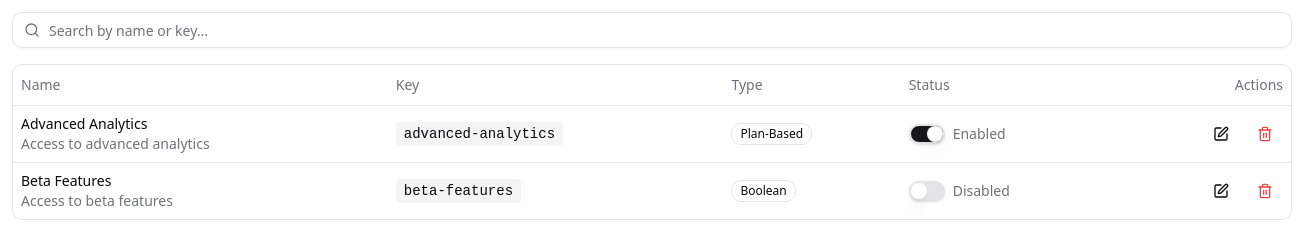
FeatureFlagsList › shows empty state when search has no results
Type "nonexistent" into the field with placeholder "Search by name or key..." at x=652, y=30, box [12,12,1292,48]
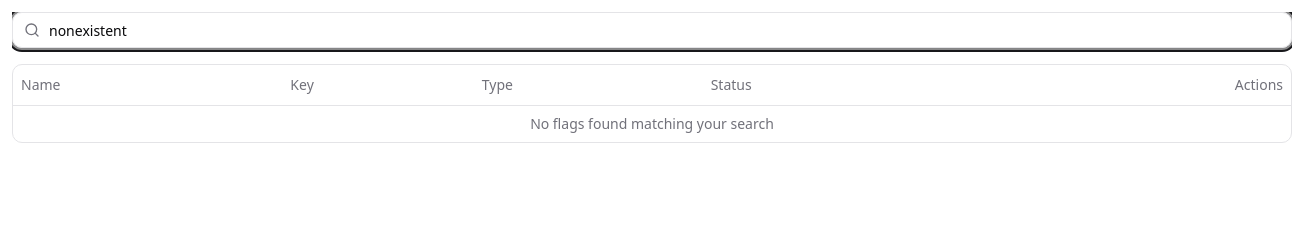
Expected: the text "No flags found matching your search" is shown, [13,105,1291,142]
